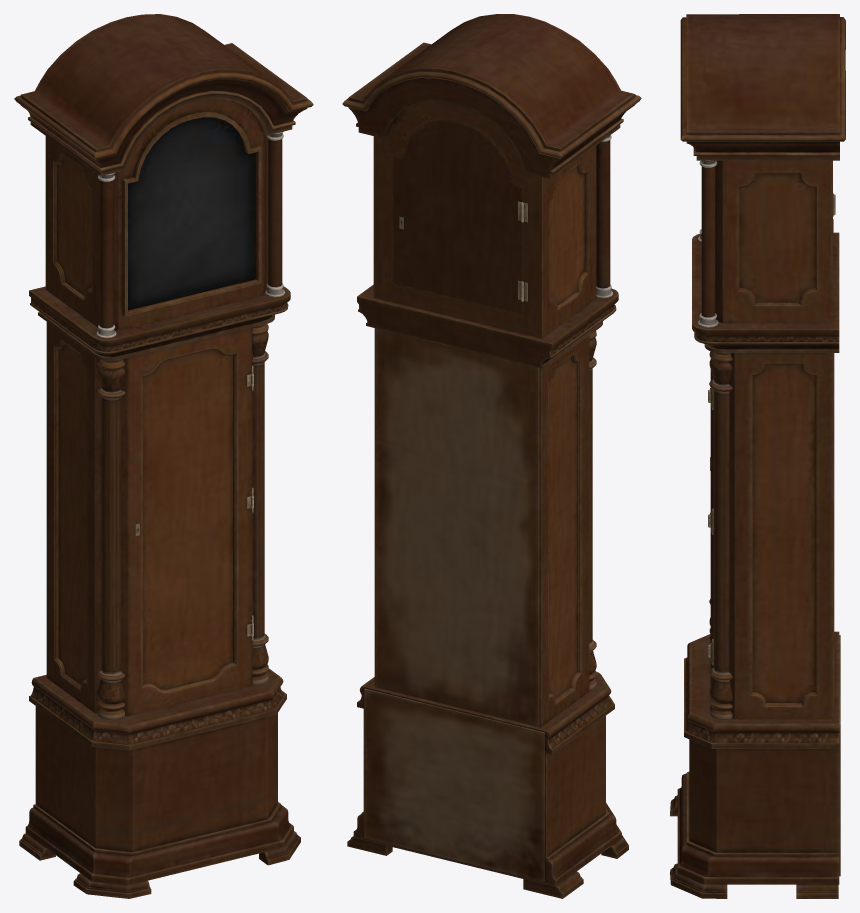
The model's file is vintage_grandfather_clock_01.glb.
The picture shows the model from 3 angles, left to right: view 1: azimuth 30°, elevation 25°; view 2: azimuth 150°, elevation 25°; view 3: azimuth 270°, elevation 25°; orthographic projection. The views are drawn at different scales.
Bounding box in the file's own units: 0.6256 × 2.19 × 0.4266.
2 materials, 2 textured.
